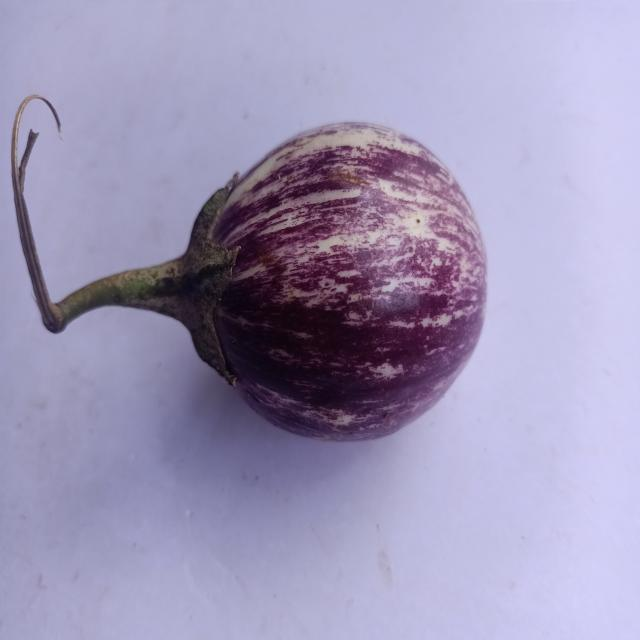Eggplant: (4, 69, 513, 458)
